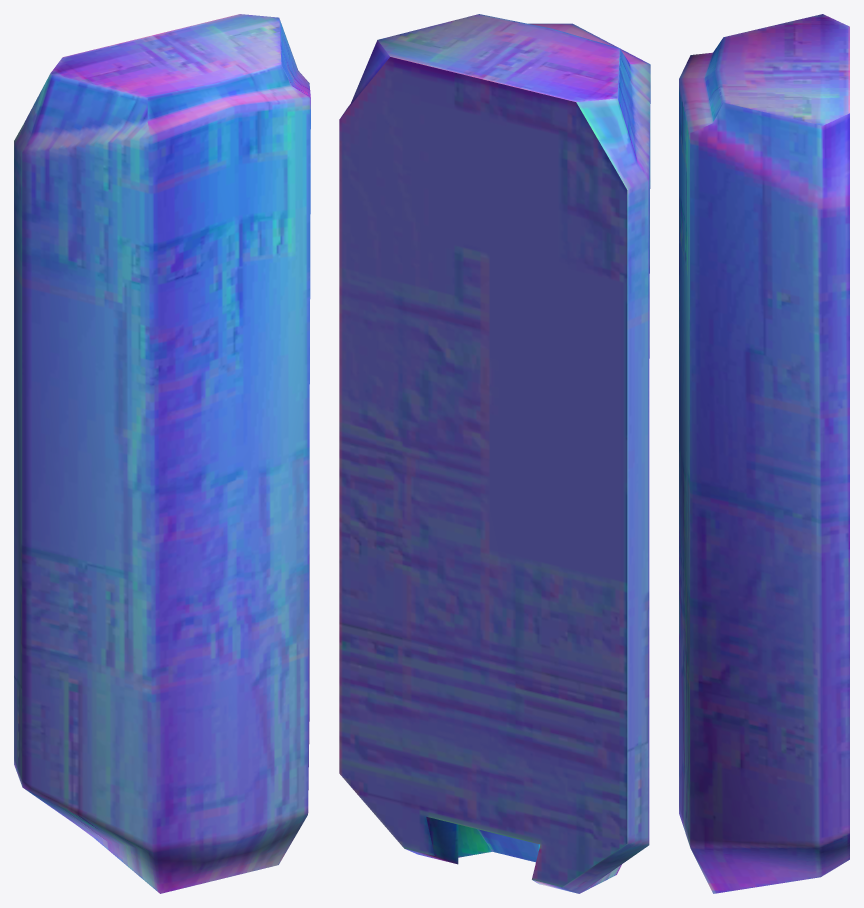
File: debris_01_03.glb
3 renders of one model, left to right at view 1: azimuth 30°, elevation 25°; view 2: azimuth 150°, elevation 25°; view 3: azimuth 270°, elevation 25°, orthographic. The views are drawn at different scales.
Parts seen in each view (by area): view 1: debris_01_03; view 2: debris_01_03; view 3: debris_01_03.
Part boxes in pixels (x1,y1,x2,y2): debris_01_03: (14,14,310,893); debris_01_03: (339,14,650,893); debris_01_03: (679,14,849,893).
Size of the model in its own units: 1.04 by 2.76 by 0.5371.
Materials: 1 (1 with a texture image).
